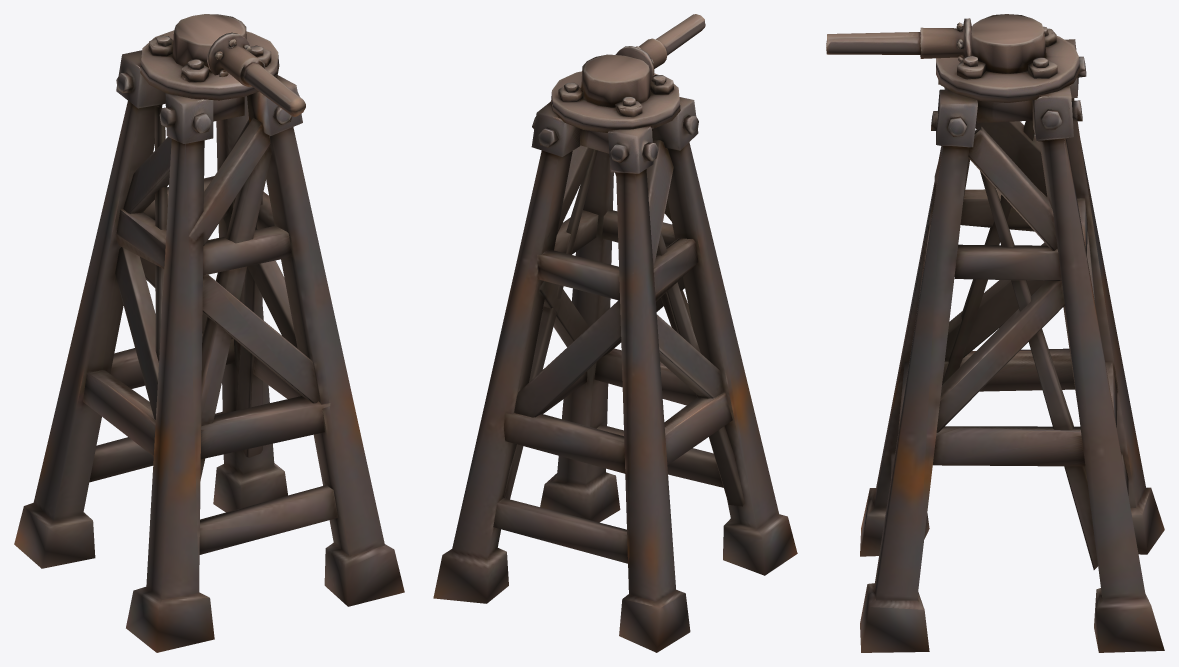
The model's file is windmill-mast.glb.
3 views of the same model, side by side, from view 1: azimuth 30°, elevation 25°; view 2: azimuth 150°, elevation 25°; view 3: azimuth 270°, elevation 25° (orthographic). The views are drawn at different scales.
Visible parts, largest first — view 1: tripo_node_dcf7591d-6d61-451b-b3ab-0632f9795bf1; view 2: tripo_node_dcf7591d-6d61-451b-b3ab-0632f9795bf1; view 3: tripo_node_dcf7591d-6d61-451b-b3ab-0632f9795bf1.
Part boxes in pixels (box(x1,y1,x2,y2)): tripo_node_dcf7591d-6d61-451b-b3ab-0632f9795bf1: box(14, 14, 404, 652); tripo_node_dcf7591d-6d61-451b-b3ab-0632f9795bf1: box(433, 14, 797, 652); tripo_node_dcf7591d-6d61-451b-b3ab-0632f9795bf1: box(826, 14, 1164, 652).
Bounding box in the file's own units: 1.65 × 3.5 × 1.89.
1 material, 1 textured.
